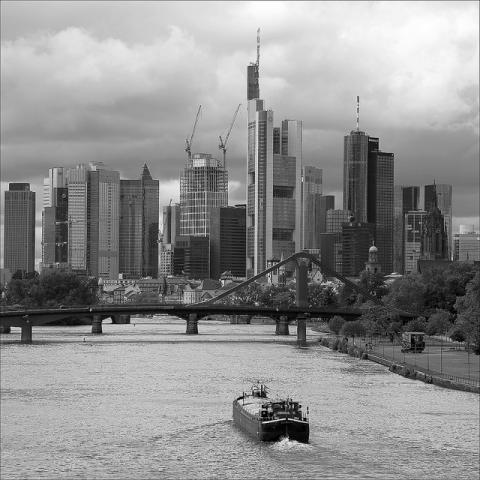truck: (399, 331, 426, 353)
